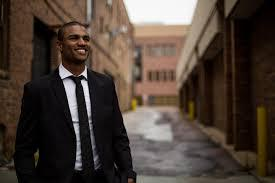Persons: (55, 19, 94, 65)
